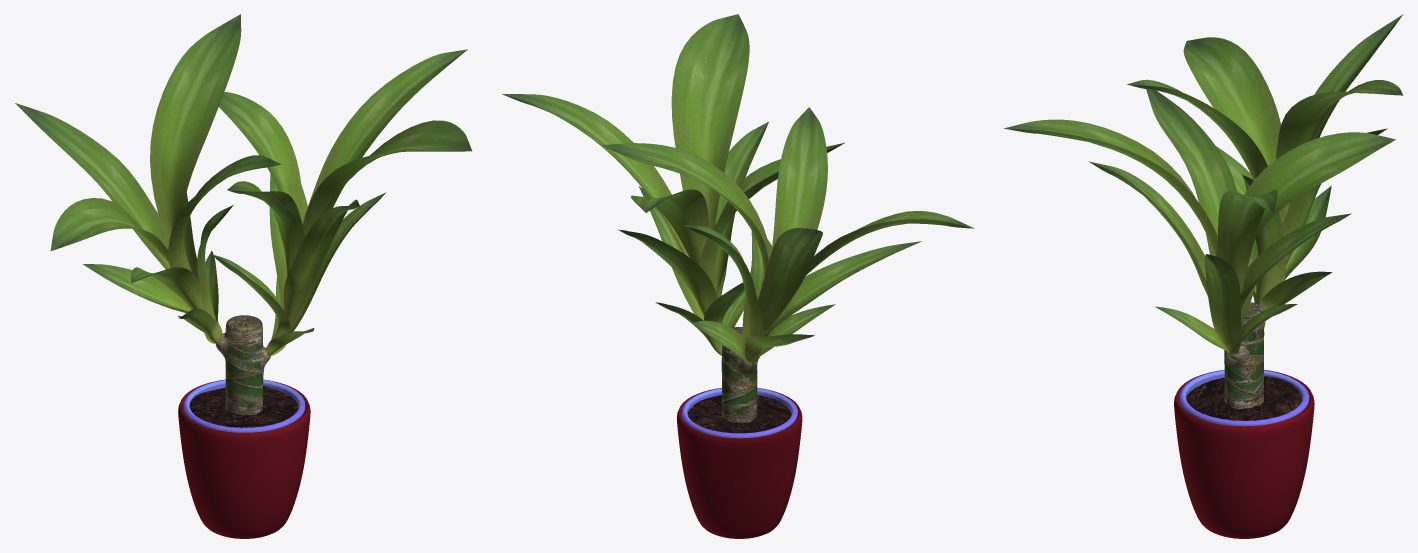
The model's file is indoor plant_02.obj.
The picture shows the model from 3 angles, left to right: view 1: azimuth 30°, elevation 25°; view 2: azimuth 150°, elevation 25°; view 3: azimuth 270°, elevation 25°; orthographic projection. The views are drawn at different scales.
Visible parts, largest first — view 1: indoor_plant_02; view 2: indoor_plant_02; view 3: indoor_plant_02.
Boxes of the visible parts, x1=… form: indoor_plant_02: x1=15, y1=14, x2=471, y2=538; indoor_plant_02: x1=502, y1=14, x2=974, y2=538; indoor_plant_02: x1=1003, y1=14, x2=1403, y2=538.
Bounding box in the file's own units: 6.82 × 6.22 × 4.86.
Materials: 6 (6 with a texture image).
